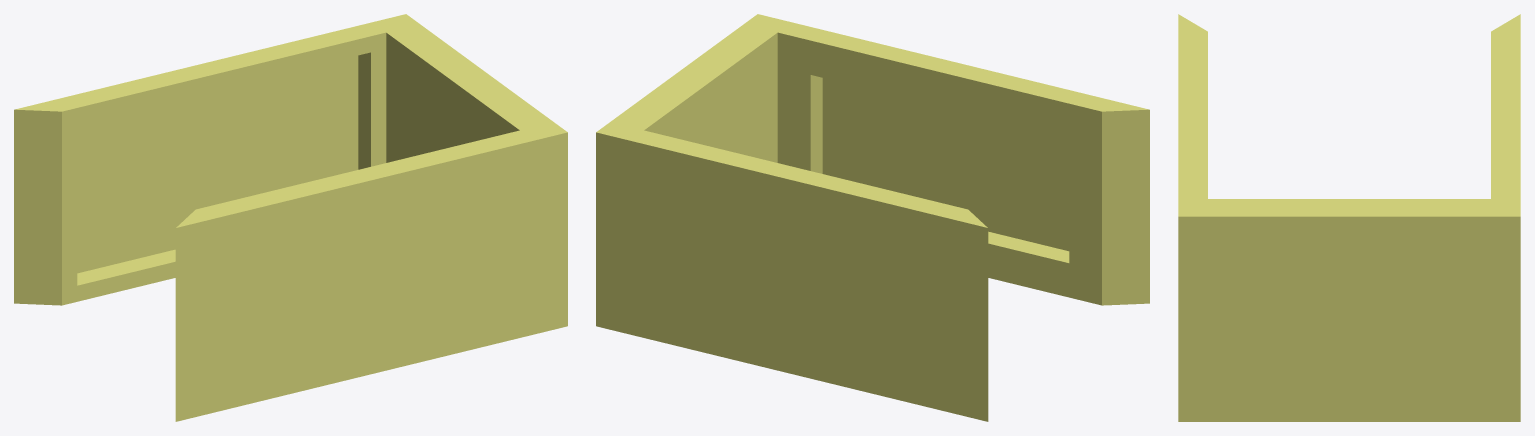
Rendered from showroom.gltf.
The picture shows the model from 3 angles, left to right: view 1: azimuth 30°, elevation 25°; view 2: azimuth 150°, elevation 25°; view 3: azimuth 270°, elevation 25°; orthographic projection. The views are drawn at different scales.
Parts seen in each view (by area): view 1: Cube; view 2: Cube; view 3: Cube.
Part boxes in pixels (<box>): Cube: <box>14,14,567,421</box>; Cube: <box>596,14,1149,421</box>; Cube: <box>1178,14,1520,421</box>.
Size of the model in its own units: 8.47 by 4 by 6.05.
